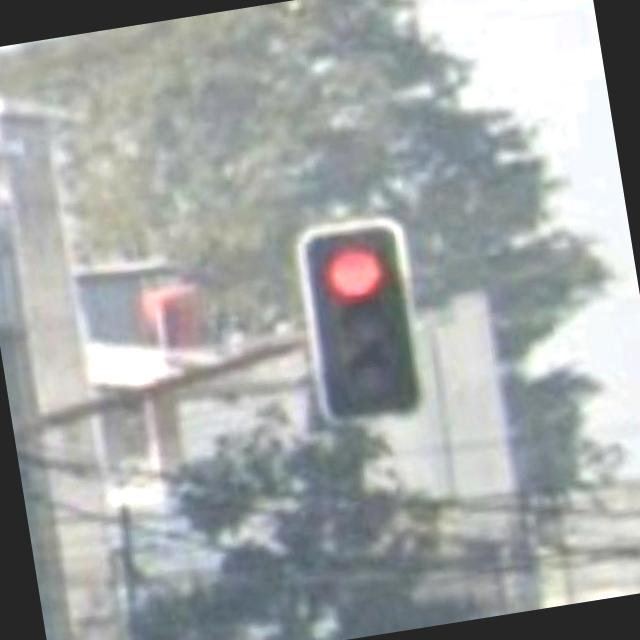Czerwone swiatlo: (301, 216, 426, 422)
